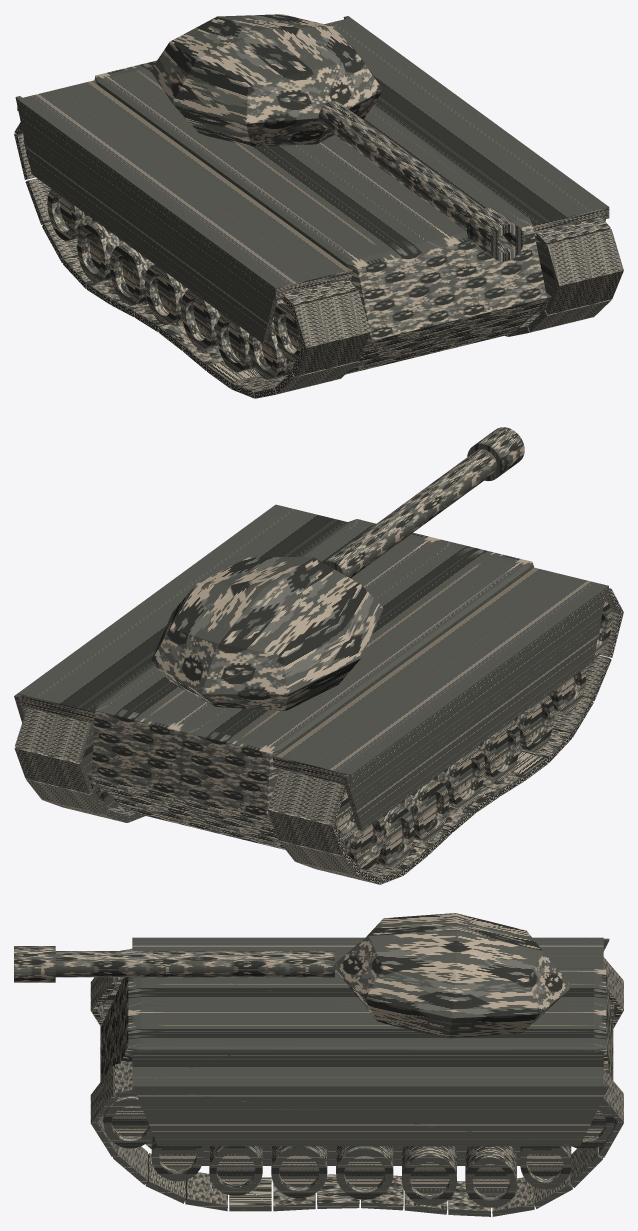
File: tank2.gltf
3 views of the same model, one above another, from view 1: azimuth 30°, elevation 25°; view 2: azimuth 150°, elevation 25°; view 3: azimuth 270°, elevation 25° (orthographic). The views are drawn at different scales.
Parts seen in each view (by area): view 1: Cube.002, Cube.006, Cube.004, Cube.007, Cube.001, Cylinder.001, Cylinder.002, Cube, Cube.003, Cylinder; view 2: Cube.006, Cube.002, Cube.004, Cube.007, Cube.001, Cylinder.001, Cylinder.002, Cube, Cube.003, Cylinder; view 3: Cube.002, Cube.005, Cube.006, Cube.004, Cylinder, Cube, Cylinder.002, Cube.001, Cube.003.
Boxes of the visible parts, box(x1,y1,x2,y2) form: Cube.002: box(94, 60, 546, 340); Cube.006: box(17, 17, 609, 299); Cube.004: box(150, 14, 382, 146); Cube.007: box(15, 96, 277, 343); Cube.001: box(14, 122, 370, 398); Cylinder.001: box(23, 138, 302, 379); Cylinder.002: box(318, 101, 524, 261); Cube: box(505, 217, 623, 336); Cube.003: box(278, 293, 551, 374); Cylinder: box(533, 238, 555, 314); Cube.006: box(17, 504, 608, 786); Cube.002: box(91, 519, 533, 817); Cube.004: box(151, 557, 383, 710); Cube.007: box(342, 600, 604, 830); Cube.001: box(267, 588, 623, 884); Cylinder.001: box(334, 601, 612, 869); Cylinder.002: box(323, 427, 524, 578); Cube: box(14, 707, 144, 822); Cube.003: box(87, 771, 285, 849); Cylinder: box(81, 725, 118, 807); Cube.002: box(100, 968, 612, 1081); Cube.005: box(133, 1084, 609, 1146); Cube.006: box(132, 937, 603, 1096); Cube.004: box(335, 913, 572, 1038); Cylinder: box(103, 1095, 614, 1207); Cube: box(90, 1061, 623, 1216); Cylinder.002: box(14, 946, 334, 982); Cube.001: box(90, 948, 623, 1028); Cube.003: box(100, 1024, 613, 1165).
Size of the model in its own units: 4.95 by 3.34 by 8.58.
2 materials, 2 textured.
